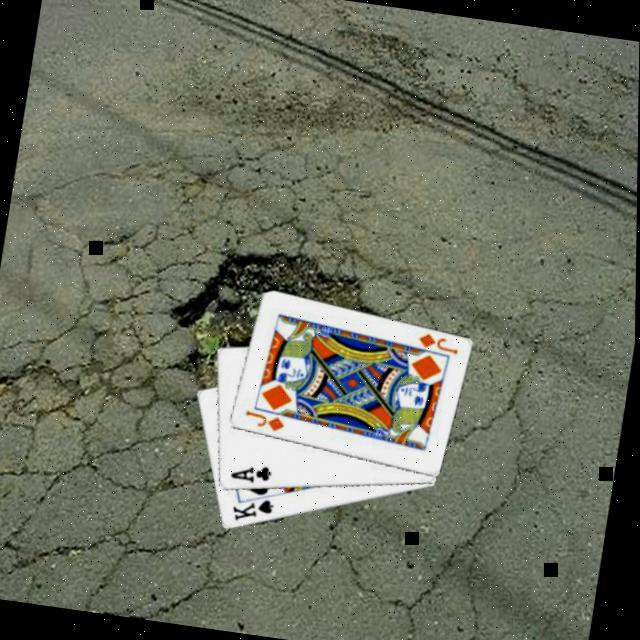AC: (226, 458, 275, 488)
JD: (240, 405, 288, 435), (413, 328, 462, 357)
KS: (227, 491, 278, 528)
